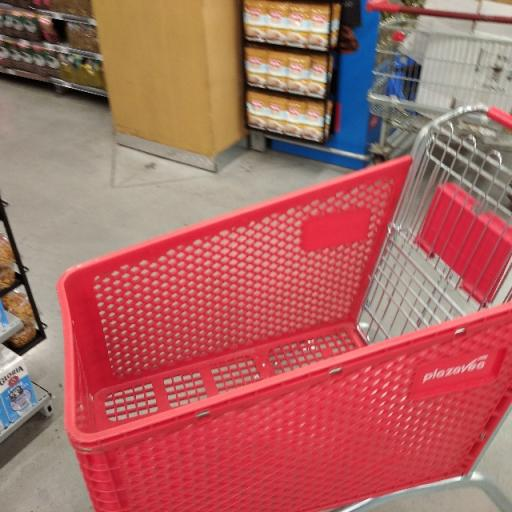shopping_cart: (55, 102, 511, 512), (363, 0, 511, 147)
